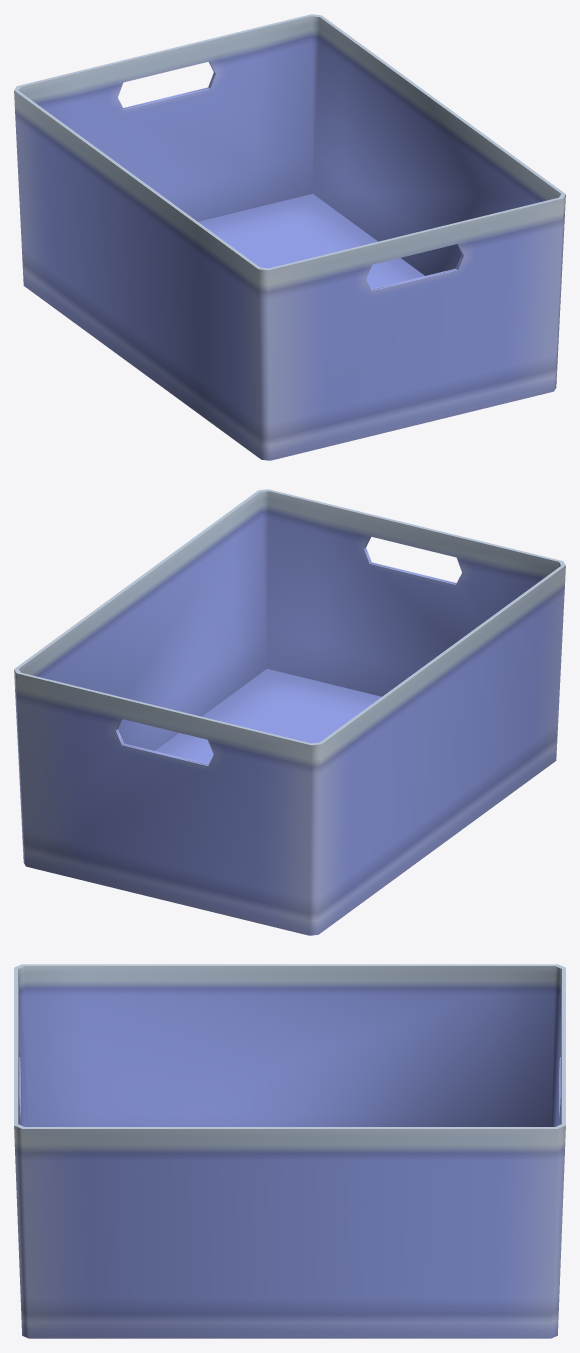
Rendered from KR_Storage_box_01_02.fbx.
The picture shows the model from 3 angles, top to bottom: view 1: azimuth 30°, elevation 25°; view 2: azimuth 150°, elevation 25°; view 3: azimuth 270°, elevation 25°; orthographic projection. The views are drawn at different scales.
Parts seen in each view (by area): view 1: kr_storage_box_01_02; view 2: kr_storage_box_01_02; view 3: kr_storage_box_01_02.
Boxes of the visible parts, x1,y1,x2,y2 form: kr_storage_box_01_02: (14,14,565,460); kr_storage_box_01_02: (14,489,565,935); kr_storage_box_01_02: (14,964,565,1338).
Size of the model in its own units: 24 by 14.5 by 34.
